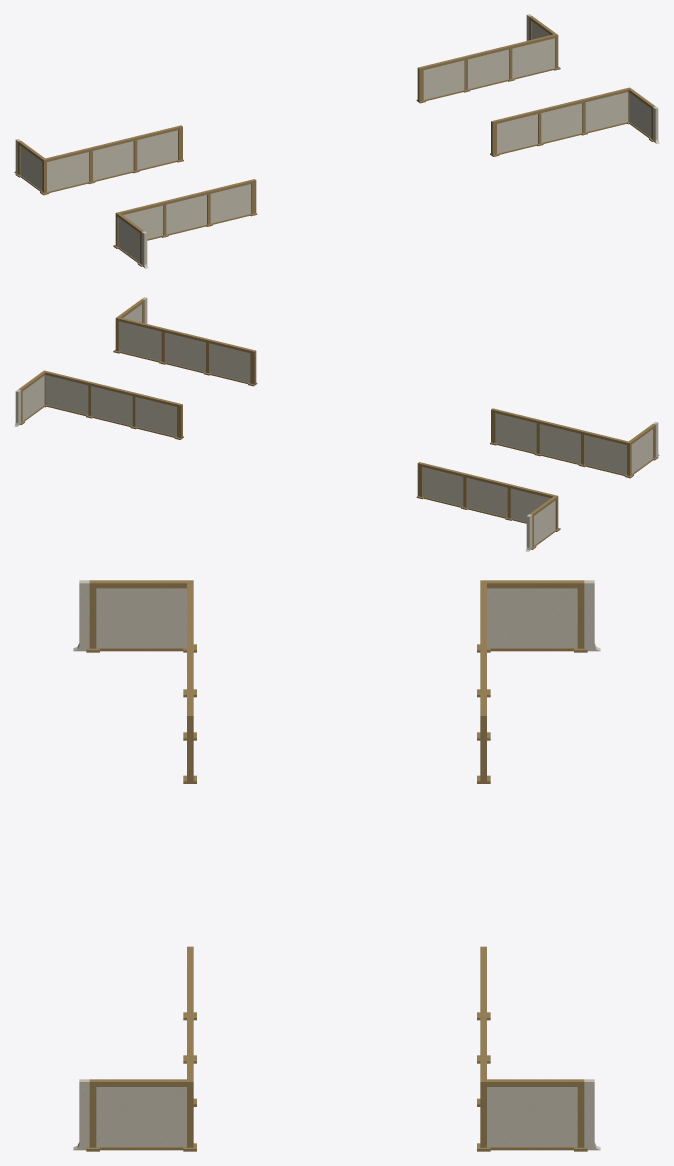
Rendered from AST-RCV-D12-PAIR-001.glb.
The picture shows the model from 3 angles, top to bottom: view 1: azimuth 30°, elevation 25°; view 2: azimuth 150°, elevation 25°; view 3: azimuth 270°, elevation 25°; orthographic projection. The views are drawn at different scales.
Parts seen in each view (by area): view 1: D12_directory_08_north_Panel2, D12_directory_08_south_Panel2, D12_directory_07_south_Panel2, D12_directory_07_north_Panel0, D12_directory_08_north_Panel1, D12_directory_08_south_Panel0, D12_directory_07_north_Panel1, D12_directory_07_south_Panel0, D12_directory_07_south_Panel1, D12_directory_08_north_Panel0, D12_directory_08_south_Panel1, D12_directory_07_north_Panel2 (+3 smaller); view 2: D12_directory_08_south_Panel2, D12_directory_08_north_Panel2, D12_directory_07_north_Panel2, D12_directory_07_south_Panel0, D12_directory_08_north_Panel0, D12_directory_08_south_Panel1, D12_directory_07_north_Panel0, D12_directory_07_north_Panel1, D12_directory_07_south_Panel1, D12_directory_08_south_Panel0, D12_directory_08_north_Panel1, D12_directory_07_south_Panel2 (+3 smaller); view 3: D12_directory_07_north_Panel3, D12_directory_07_south_Panel3, D12_directory_08_north_Panel3, D12_directory_08_south_Panel3, D12_directory_07_north_Rail3, D12_directory_07_south_Rail3, D12_directory_07_north_SourceProfiledTerminal, D12_directory_07_south_SourceProfiledTerminal, D12_directory_08_north_SourceProfiledTerminal, D12_directory_08_south_SourceProfiledTerminal.
Part boxes in pixels (x1,y1,x2,y2): D12_directory_08_north_Panel2: (585, 92, 628, 131); D12_directory_08_south_Panel2: (512, 38, 554, 78); D12_directory_07_south_Panel2: (47, 152, 89, 191); D12_directory_07_north_Panel0: (210, 184, 251, 223); D12_directory_08_north_Panel1: (541, 103, 582, 142); D12_directory_08_south_Panel0: (423, 60, 464, 99); D12_directory_07_north_Panel1: (166, 195, 206, 234); D12_directory_07_south_Panel0: (137, 130, 177, 169); D12_directory_07_south_Panel1: (93, 141, 133, 180); D12_directory_08_north_Panel0: (497, 114, 537, 153); D12_directory_08_south_Panel1: (468, 49, 508, 89); D12_directory_07_north_Panel2: (123, 205, 162, 238); D12_directory_08_south_Panel2: (45, 375, 88, 414); D12_directory_08_north_Panel2: (119, 321, 161, 361); D12_directory_07_north_Panel2: (584, 435, 626, 474); D12_directory_07_south_Panel0: (422, 467, 463, 506); D12_directory_08_north_Panel0: (209, 343, 250, 382); D12_directory_08_south_Panel1: (91, 386, 132, 425); D12_directory_07_north_Panel0: (496, 413, 536, 452); D12_directory_07_north_Panel1: (540, 424, 580, 463); D12_directory_07_south_Panel1: (467, 478, 507, 517); D12_directory_08_south_Panel0: (136, 397, 176, 436); D12_directory_08_north_Panel1: (165, 332, 205, 372); D12_directory_07_south_Panel2: (511, 488, 550, 521); D12_directory_07_north_Panel3: (96, 588, 186, 647); D12_directory_07_south_Panel3: (487, 588, 577, 647); D12_directory_08_north_Panel3: (96, 1087, 186, 1146); D12_directory_08_south_Panel3: (487, 1087, 577, 1146); D12_directory_07_north_Rail3: (96, 580, 186, 588); D12_directory_07_south_Rail3: (487, 580, 577, 588); D12_directory_07_north_SourceProfiledTerminal: (73, 580, 89, 651); D12_directory_07_south_SourceProfiledTerminal: (584, 580, 600, 651); D12_directory_08_north_SourceProfiledTerminal: (73, 1079, 89, 1150); D12_directory_08_south_SourceProfiledTerminal: (584, 1079, 600, 1150).
Size of the model in its own units: 17.5 by 1.1 by 7.73.
2 materials, 2 textured.
